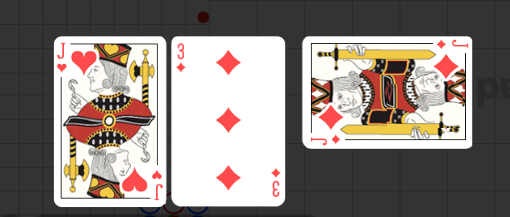3D: (175, 42, 187, 75)
JD: (434, 37, 470, 50)
JH: (55, 42, 68, 74)
